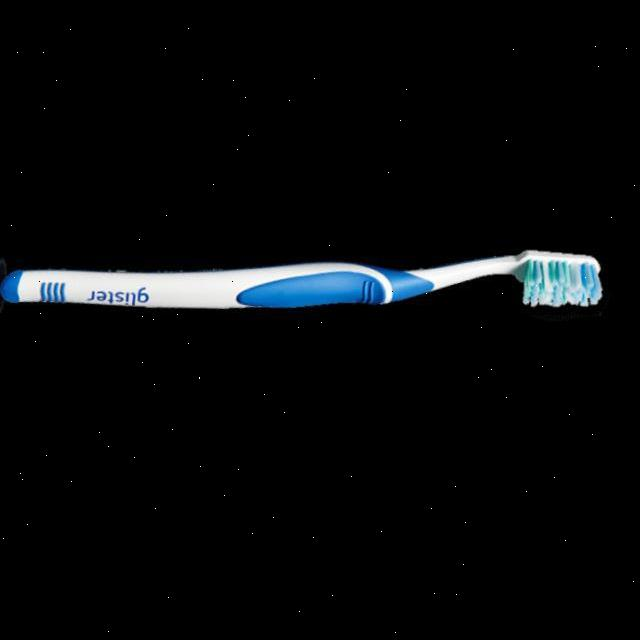toothbrush: (0, 178, 612, 410)
